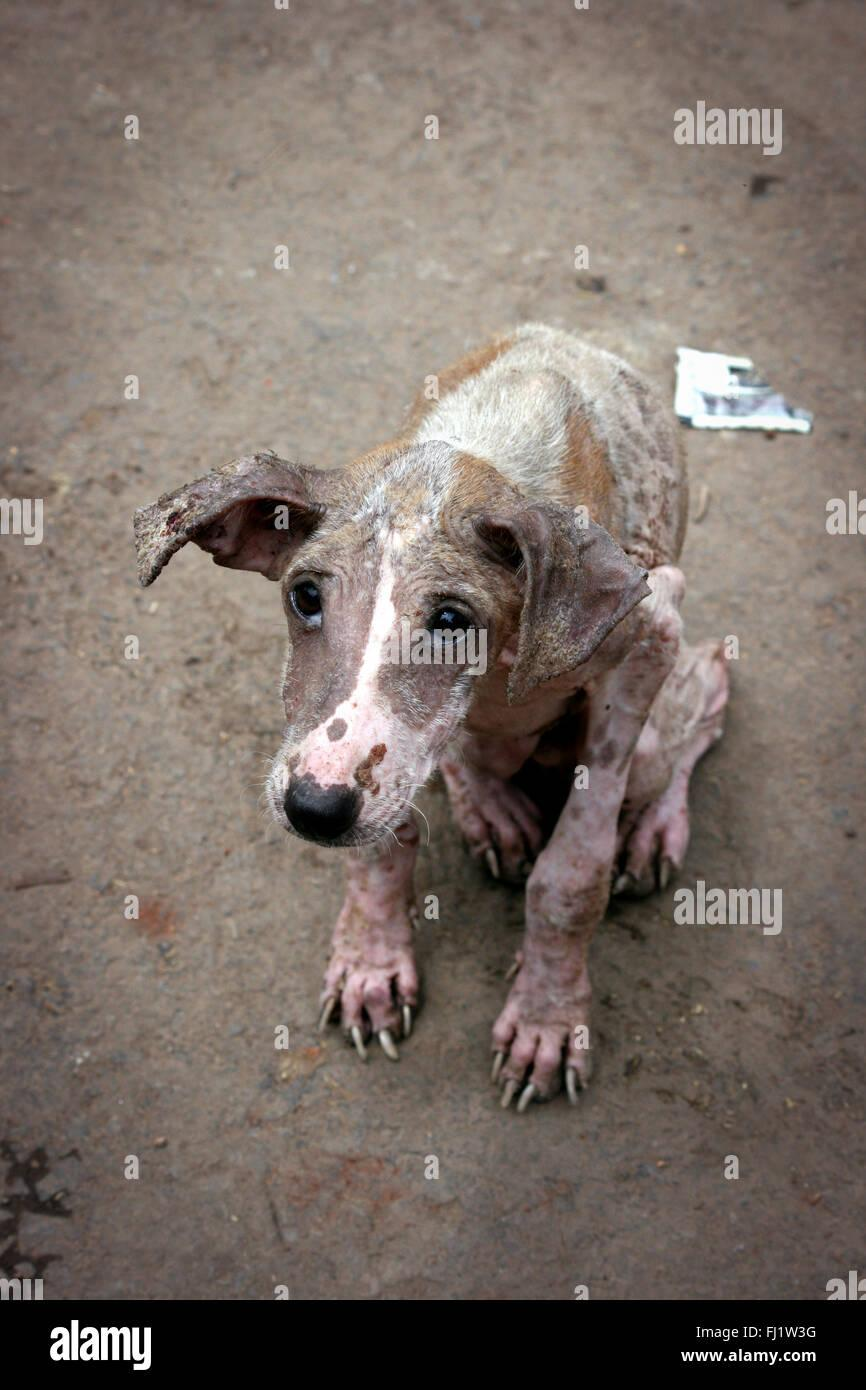infection: (230, 573, 736, 1097)
